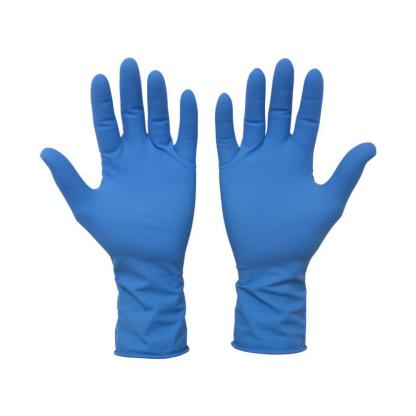with_gloves: (38, 46, 378, 362)
